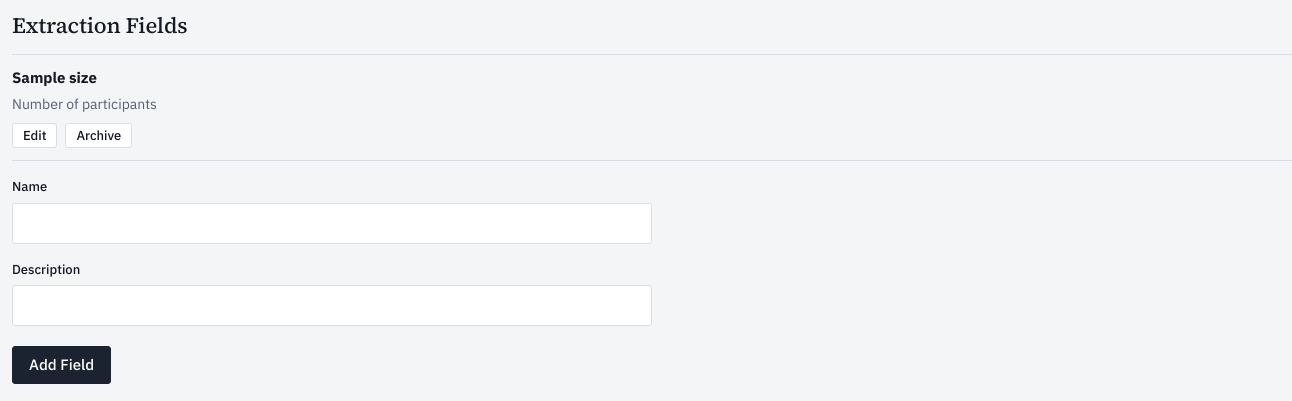
Test: ExtractionFieldsPanel › archives a field and removes it from the active list
Click the button "Archive".
click(99, 136)  # box [66,123,132,148]
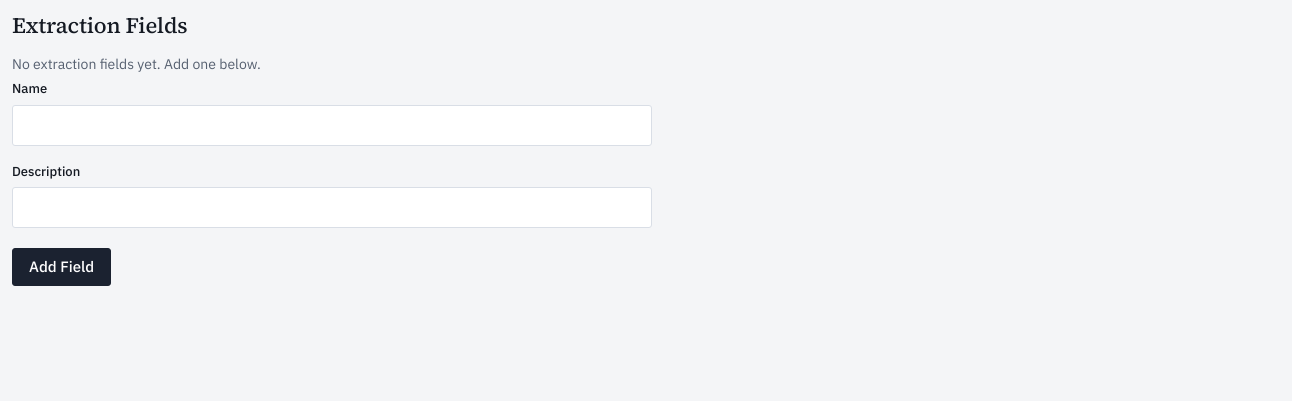
Result: the text "Sample size" is gone
